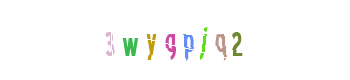2: (196, 0, 276, 80)
3: (111, 0, 191, 80)
G: (131, 0, 211, 80)
J: (148, 0, 228, 80)
P: (134, 0, 214, 80)
Q: (166, 0, 246, 80)
W: (114, 0, 194, 80)
Y: (114, 0, 194, 80)
